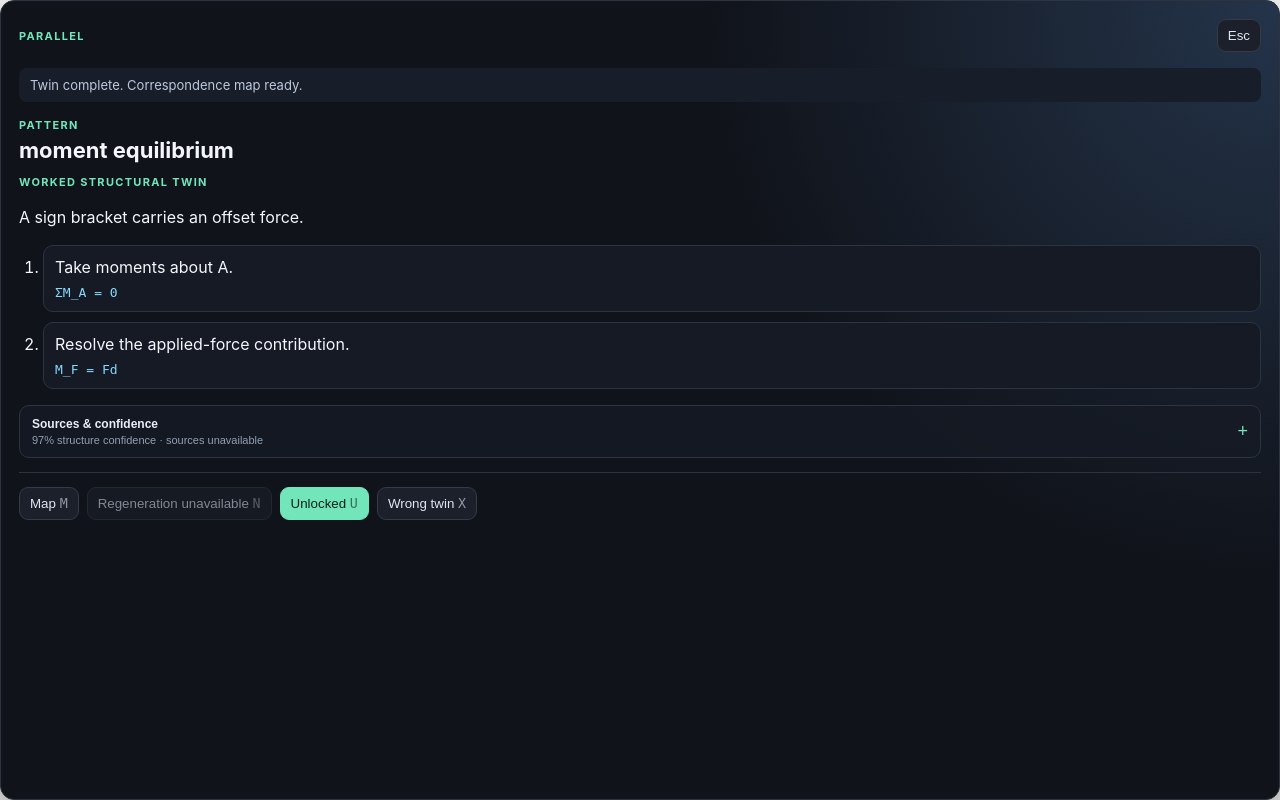
Test: Sidecar › labels teaching sources unavailable without lowering structural confidence
Step 1. Click the button "Sources & confidence" → (95, 424), box [20,406,1260,457]
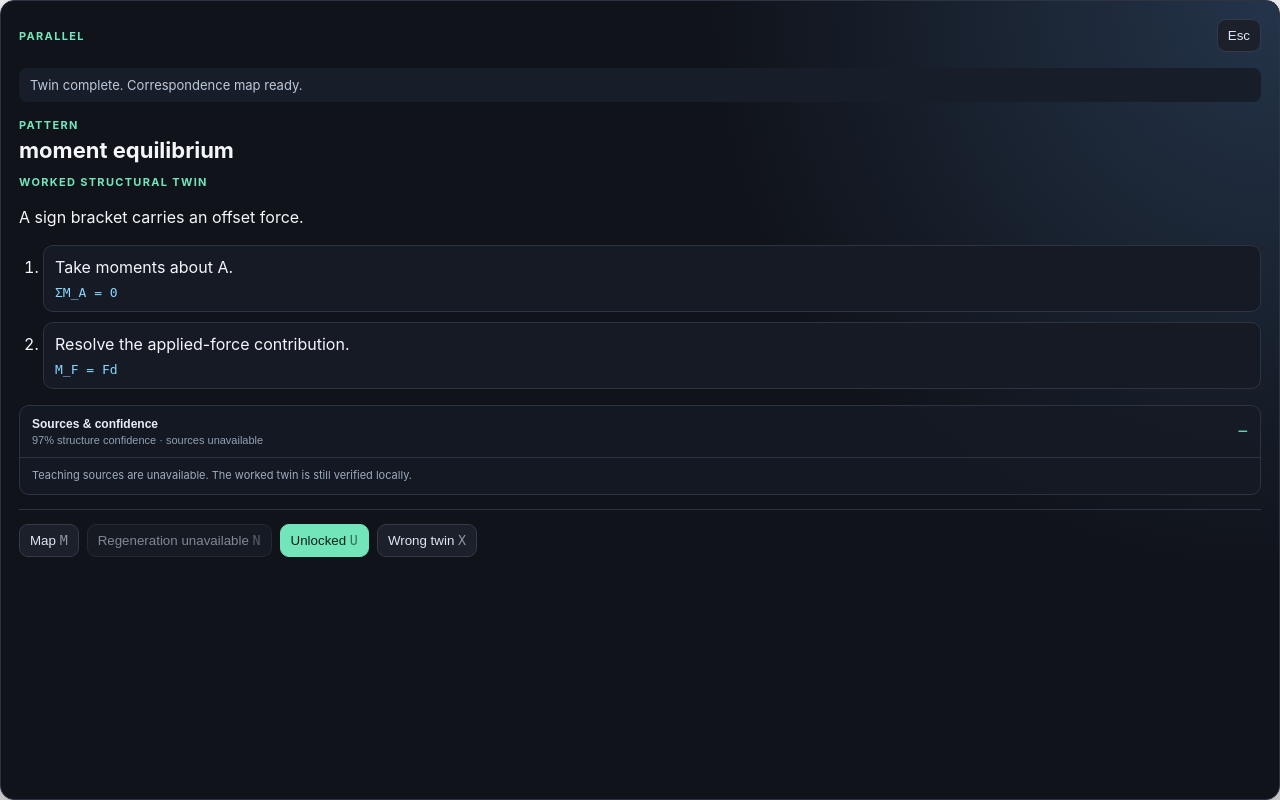
Check: the text "Teaching sources are unavailable. The worked twin is still verified locally." is shown, box [32,468,412,482]
